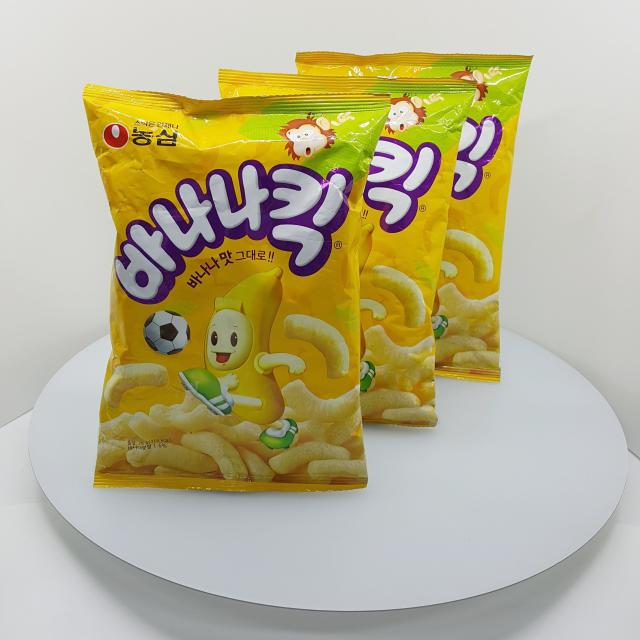-75G: (83, 84, 392, 493)
